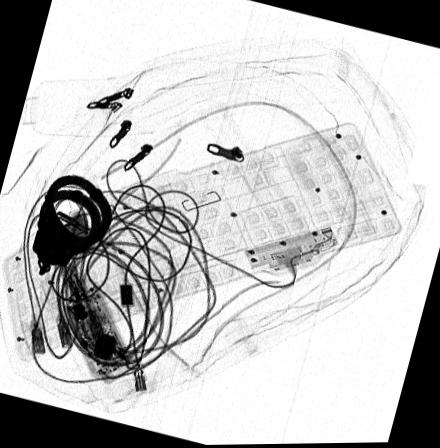HandCuffs: (31, 174, 111, 276)
